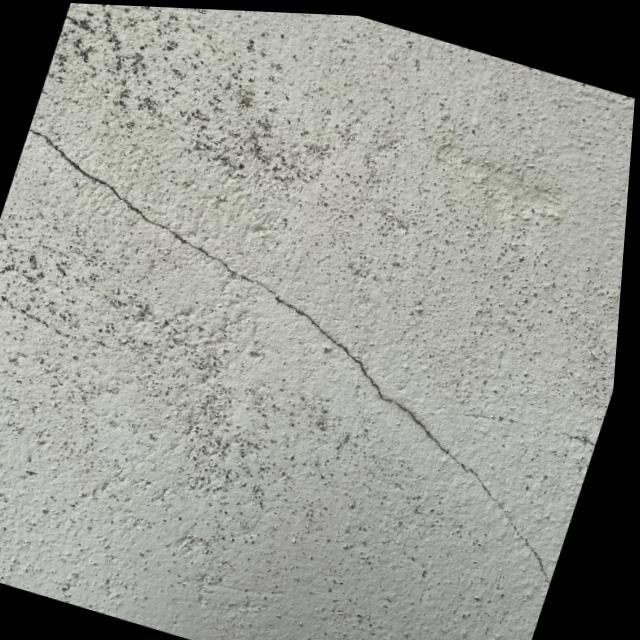Crack: (12, 98, 578, 596)
